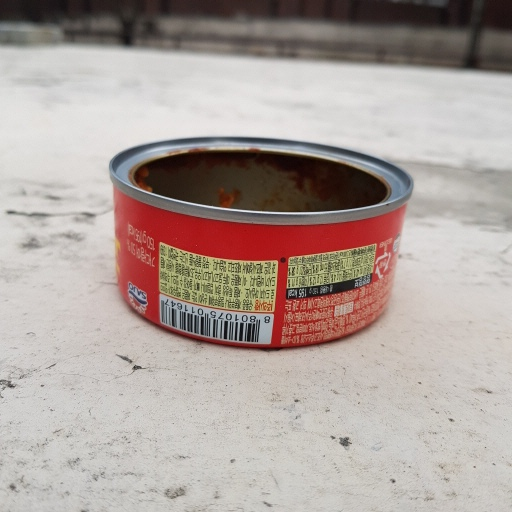Metal_1: (105, 132, 415, 348)
